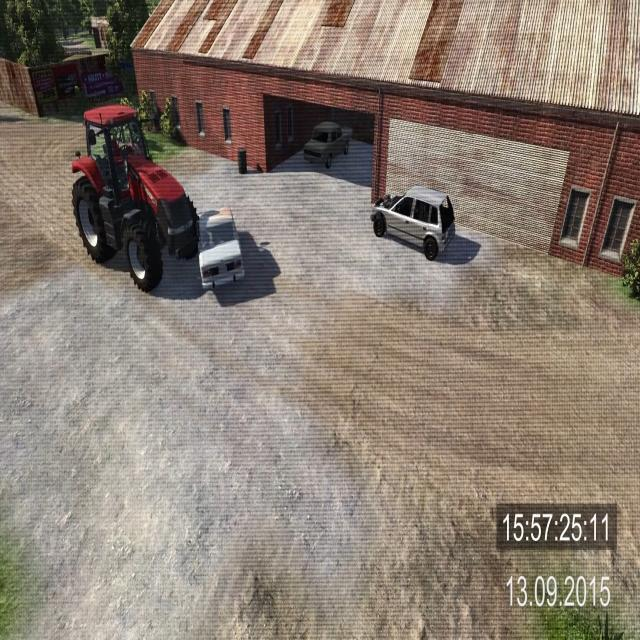high-cars-accident: (99, 56, 267, 290)
